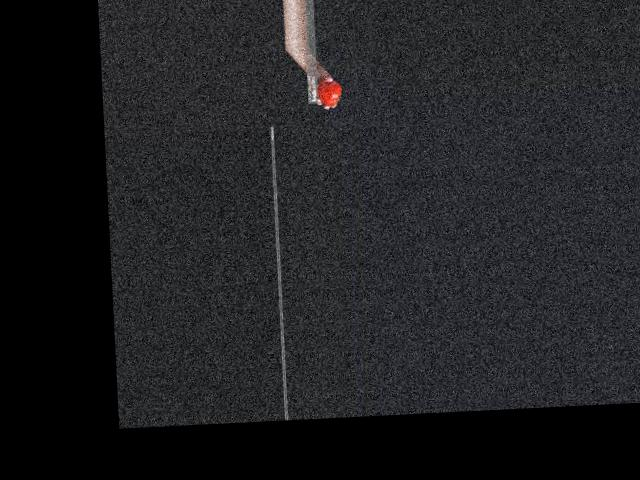tomato: (316, 80, 342, 106)
